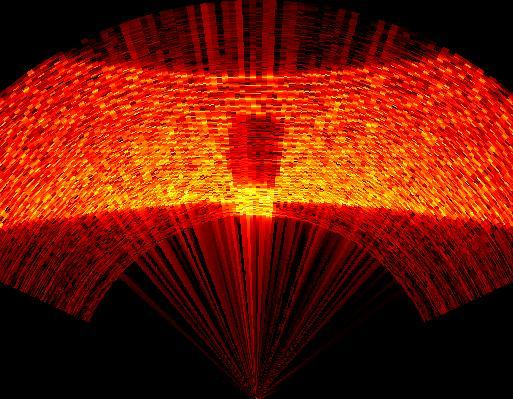box_crate: (228, 116, 283, 188)
